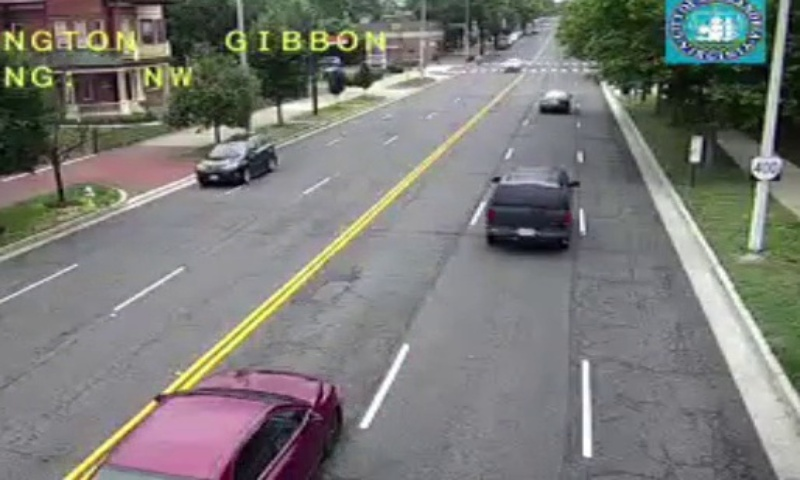car: (88, 367, 340, 480), (487, 167, 571, 242), (536, 90, 569, 113)
